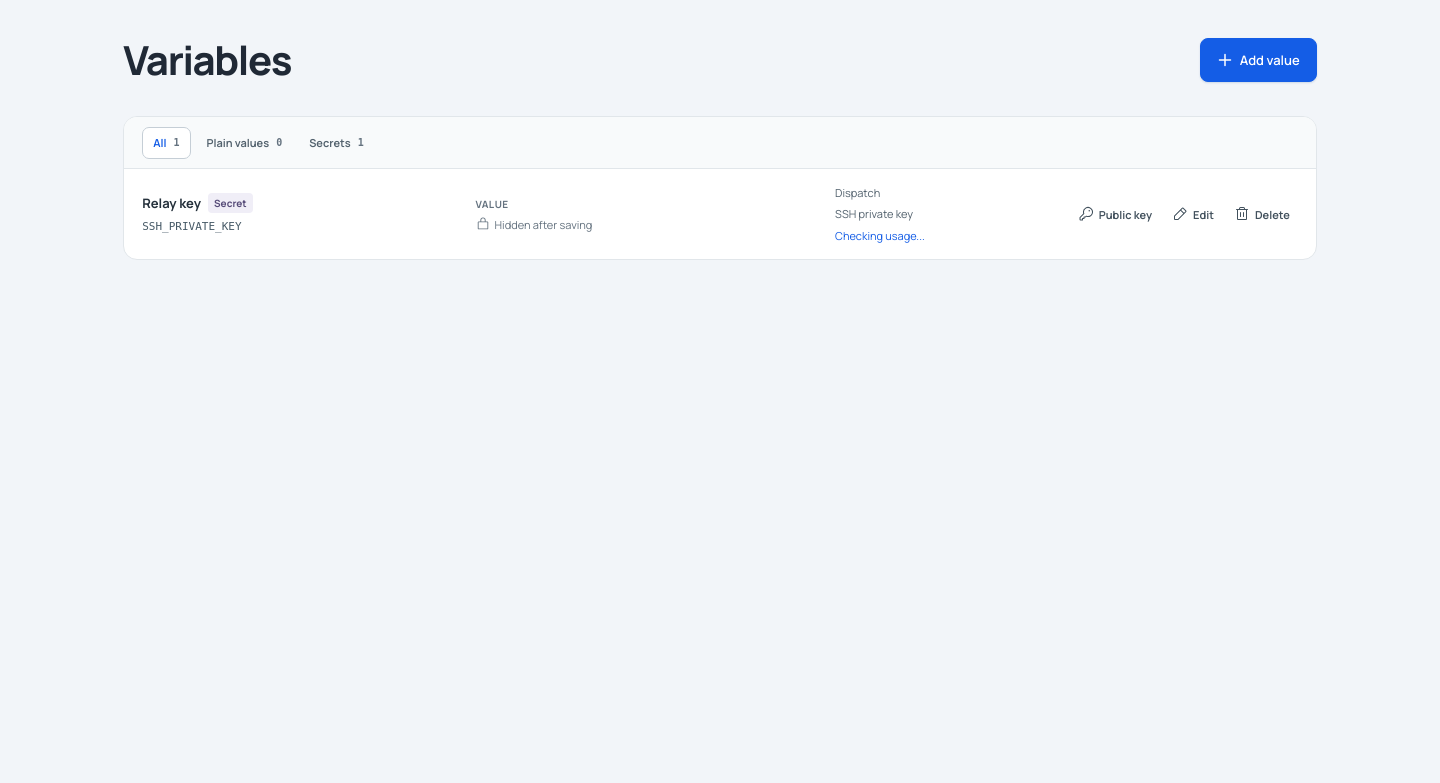
Scenario: secret actions › switches to an external secret reference without showing a value field
Click the button "Add value".
click(1258, 60)  # box [1200,38,1317,82]
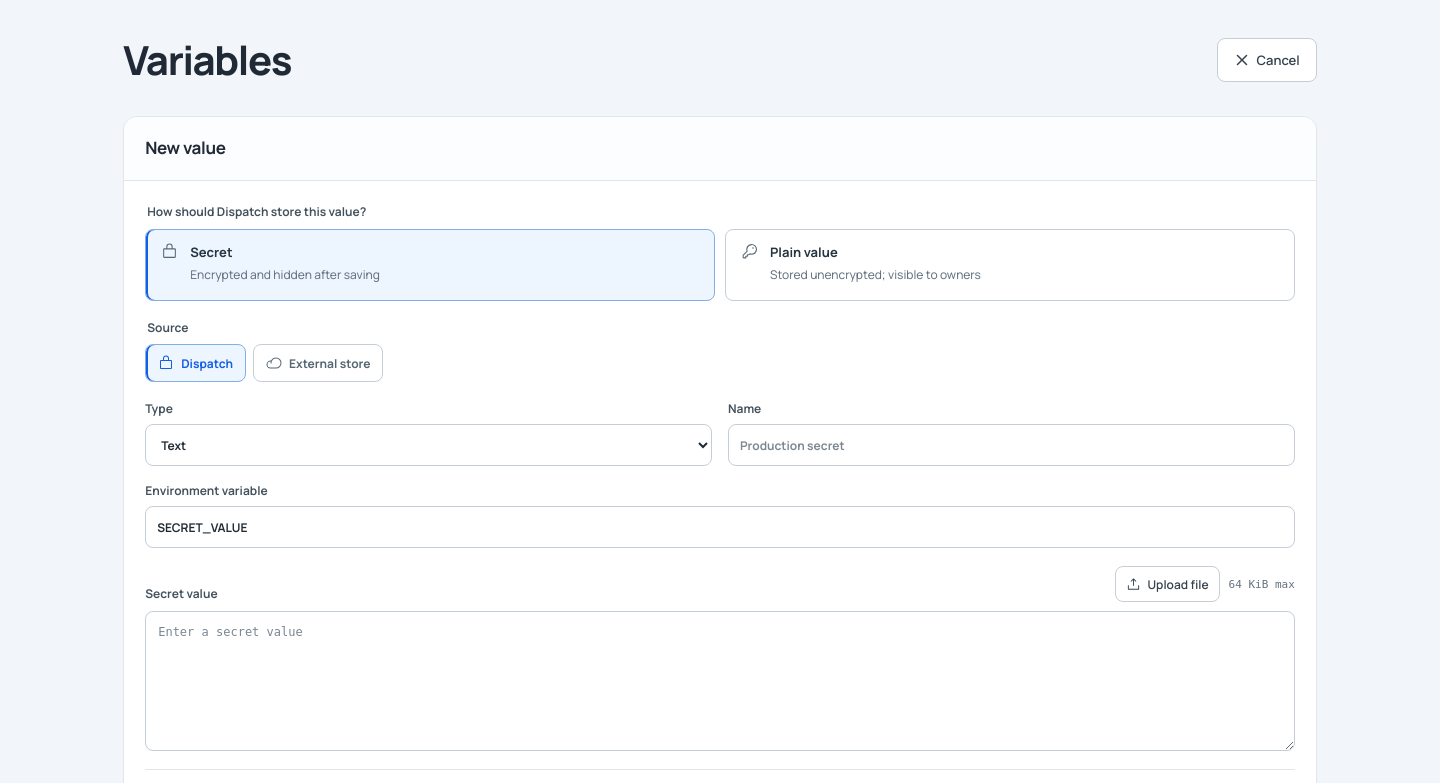
Click the radio button labelled "External store".
click(318, 363)  # box [253,344,383,382]
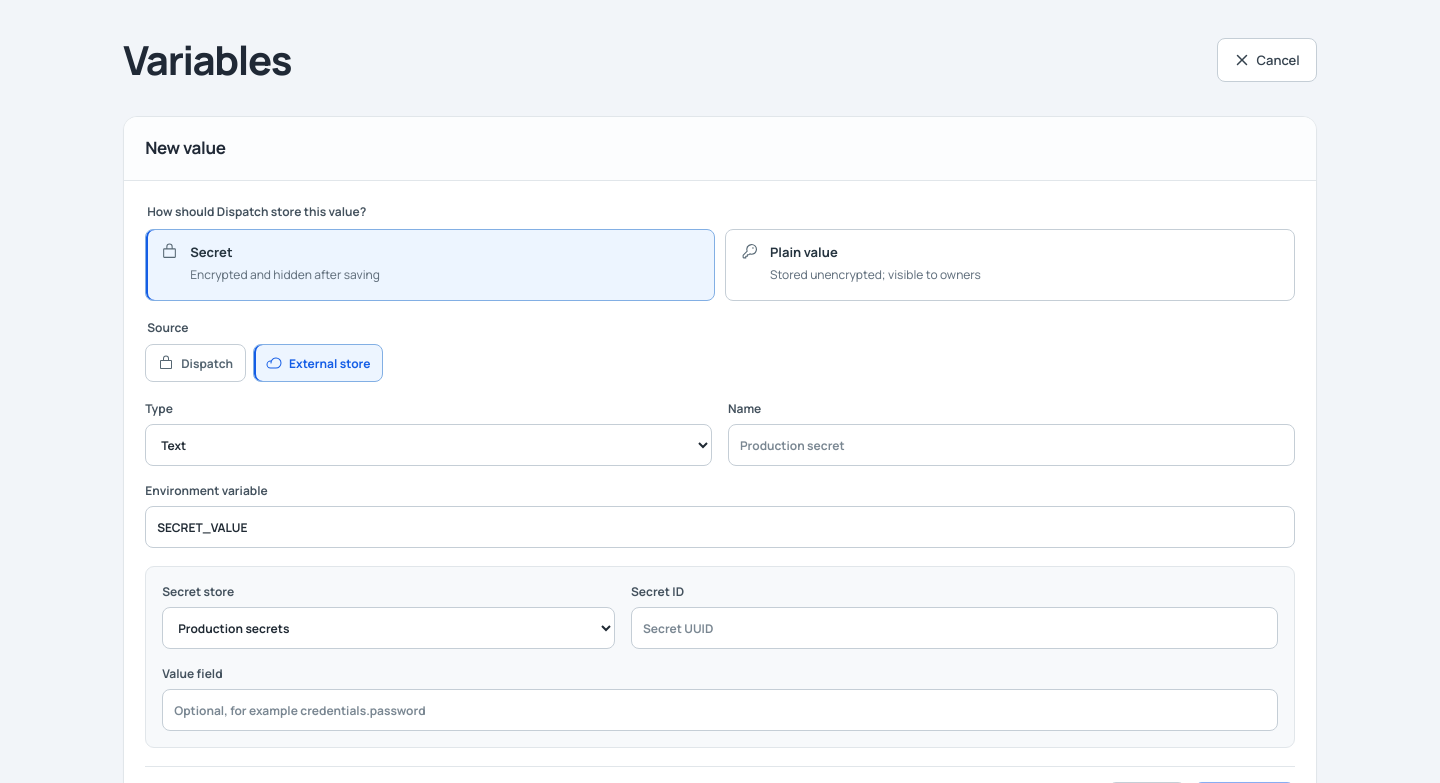
expect the field labelled "Secret ID" is shown: met, box [631,607,1278,649]
expect the label labelled "Secret value" is gone: met
